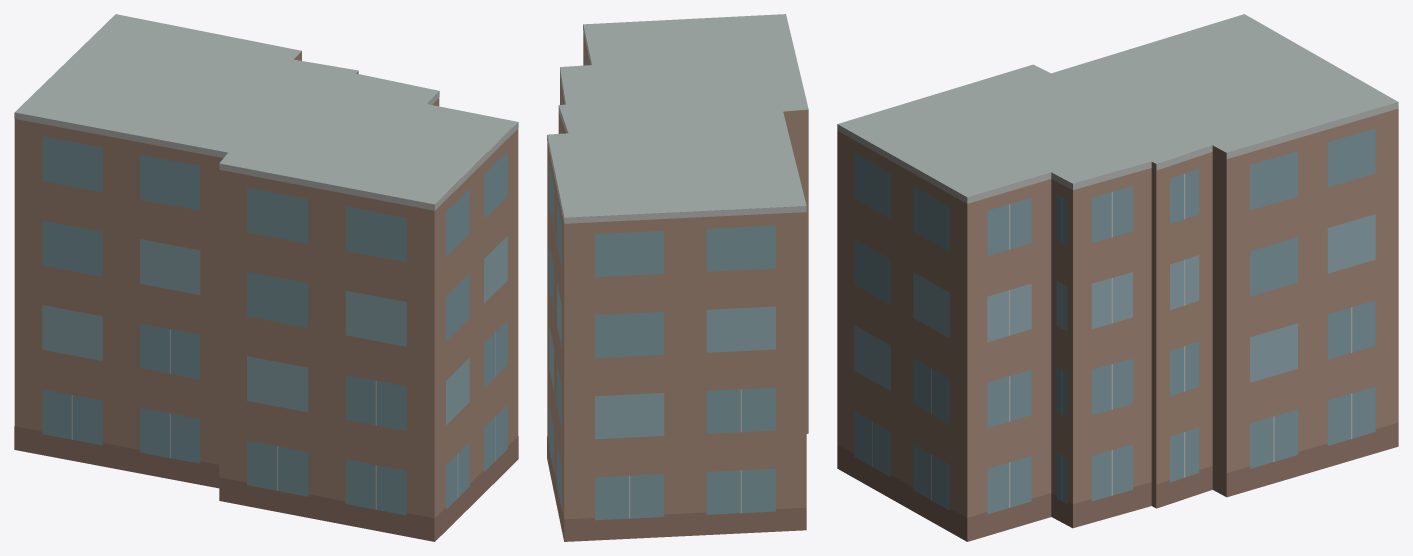
File: survey-upis-32806168.glb
3 renders of one model, left to right at view 1: azimuth 30°, elevation 25°; view 2: azimuth 150°, elevation 25°; view 3: azimuth 270°, elevation 25°, orthographic. The views are drawn at different scales.
Parts seen in each view (by area): view 1: survey-upis-32806168.tmp; view 2: survey-upis-32806168.tmp; view 3: survey-upis-32806168.tmp.
Part boxes in pixels (box(x1,y1,x2,y2)): survey-upis-32806168.tmp: box(14, 14, 518, 541); survey-upis-32806168.tmp: box(547, 14, 808, 541); survey-upis-32806168.tmp: box(837, 14, 1398, 541).
Bounding box in the file's own units: 14.85 × 13 × 19.21.
